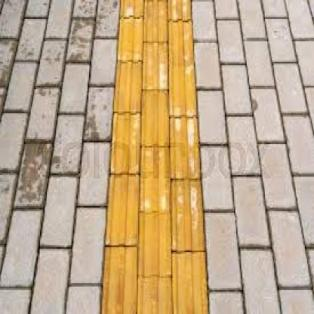Podoctatil: (97, 0, 215, 314)
